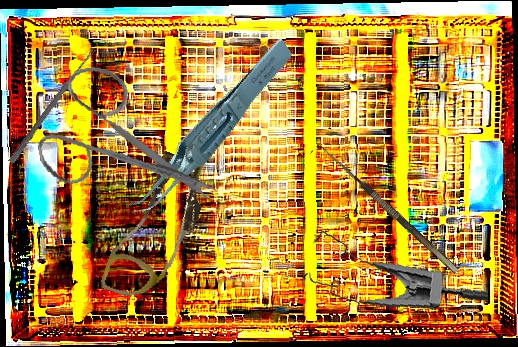Cannula: (99, 145, 215, 310)
Hook Surgical: (309, 140, 460, 282)
Iris Scissors: (26, 49, 221, 230)
Speculum: (298, 212, 489, 325)
Surgical Spoon: (8, 46, 97, 165)
Tissue Forceps: (96, 36, 320, 220)
